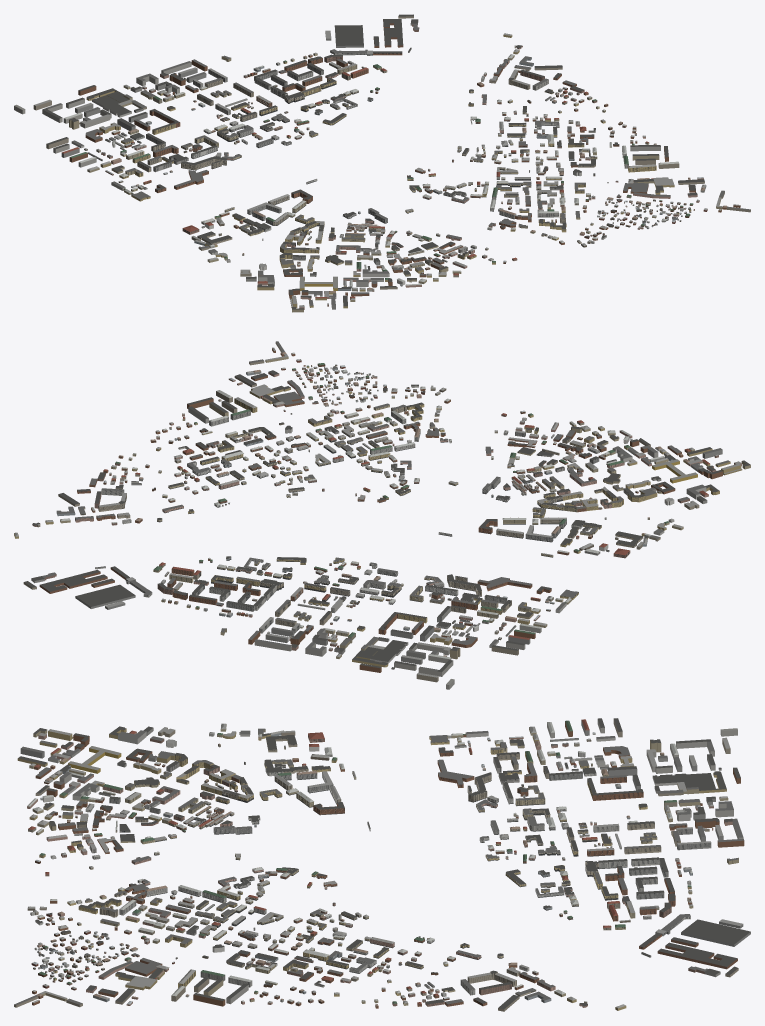
The model's file is city.glb.
3 views of the same model, one above another, from view 1: azimuth 30°, elevation 25°; view 2: azimuth 150°, elevation 25°; view 3: azimuth 270°, elevation 25° (orthographic). The views are drawn at different scales.
Visible parts, largest first — view 1: city; view 2: city; view 3: city.
Part boxes in pixels (x1,y1,x2,y2): city: [14, 14, 750, 312]; city: [14, 341, 750, 689]; city: [14, 718, 750, 1011].
Bounding box in the file's own units: 1867 × 41.82 × 2024.
